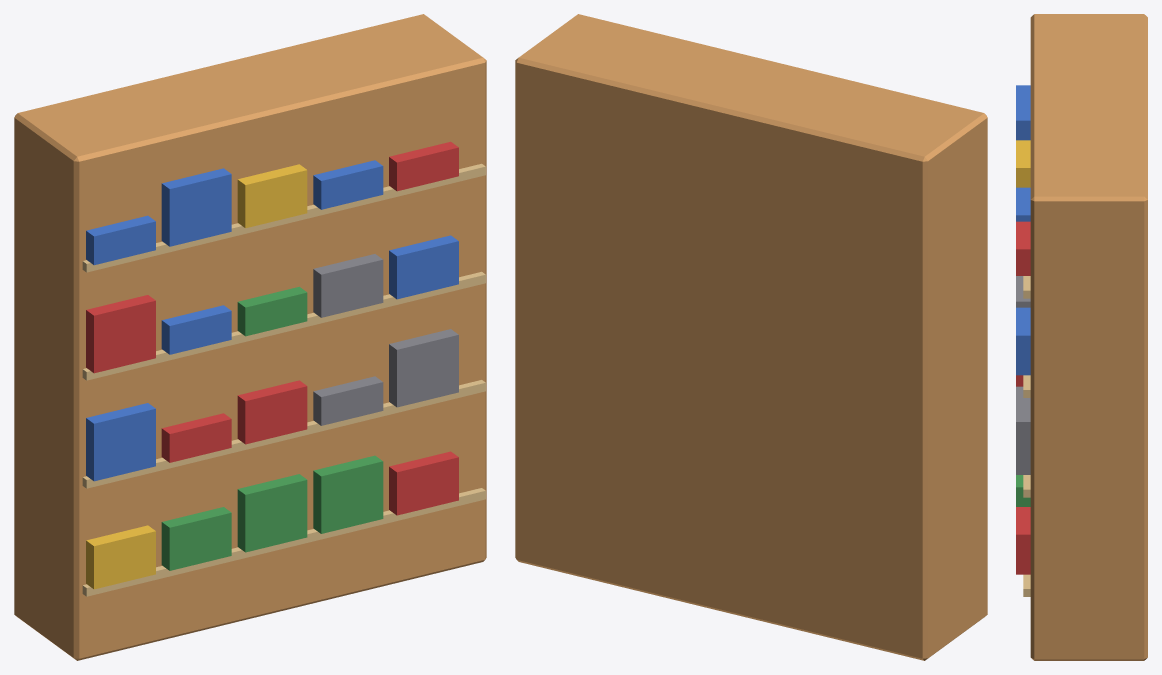
File: ClothesShelf.fbx
3 renders of one model, left to right at view 1: azimuth 30°, elevation 25°; view 2: azimuth 150°, elevation 25°; view 3: azimuth 270°, elevation 25°, orthographic. The views are drawn at different scales.
Visible parts, largest first — view 1: ClothesShelf; view 2: ClothesShelf; view 3: ClothesShelf.
Part boxes in pixels (x1,y1,x2,y2): ClothesShelf: [14, 14, 486, 660]; ClothesShelf: [515, 14, 987, 660]; ClothesShelf: [1016, 14, 1147, 660].
Size of the model in its own units: 6 by 7 by 1.8.
Materials: 1 (1 with a texture image).
